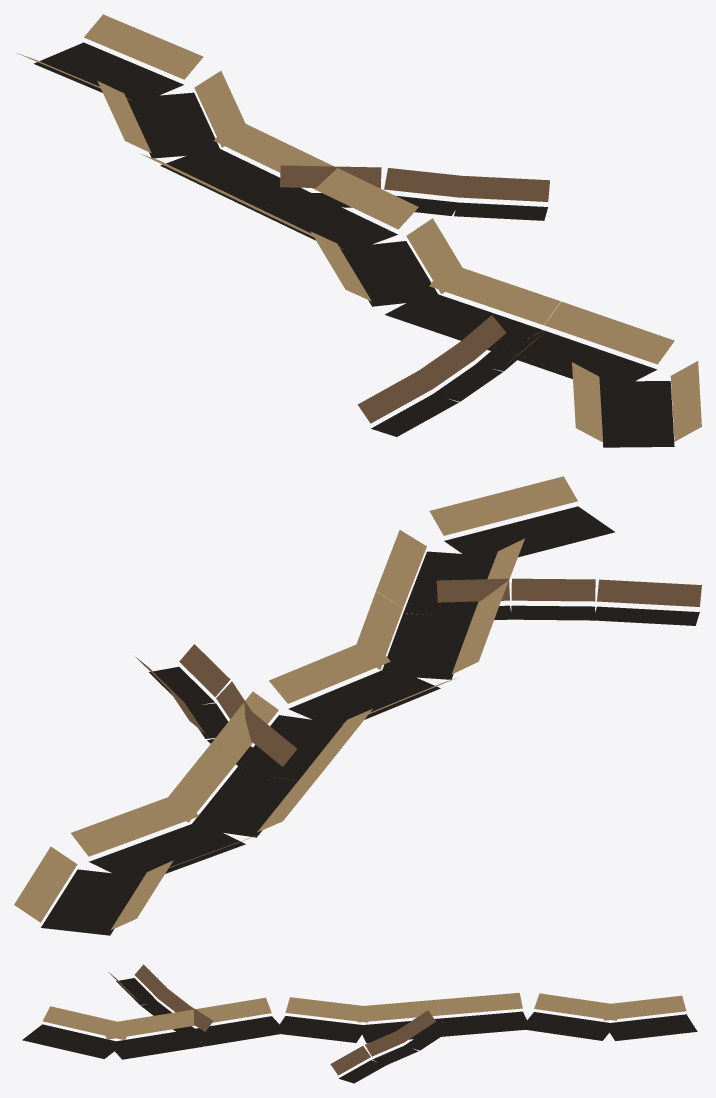
The model's file is earth_crack.glb.
The picture shows the model from 3 angles, top to bottom: view 1: azimuth 30°, elevation 25°; view 2: azimuth 150°, elevation 25°; view 3: azimuth 270°, elevation 25°; orthographic projection. The views are drawn at different scales.
Visible parts, largest first — view 1: earth_crack; view 2: earth_crack; view 3: earth_crack.
Part boxes in pixels (x1,y1,x2,y2): earth_crack: (16,14,701,447); earth_crack: (14,476,701,935); earth_crack: (22,964,697,1083).
Bounding box in the file's own units: 0.7874 × 0.042 × 2.08.
Materials: 1 (1 with a texture image).
